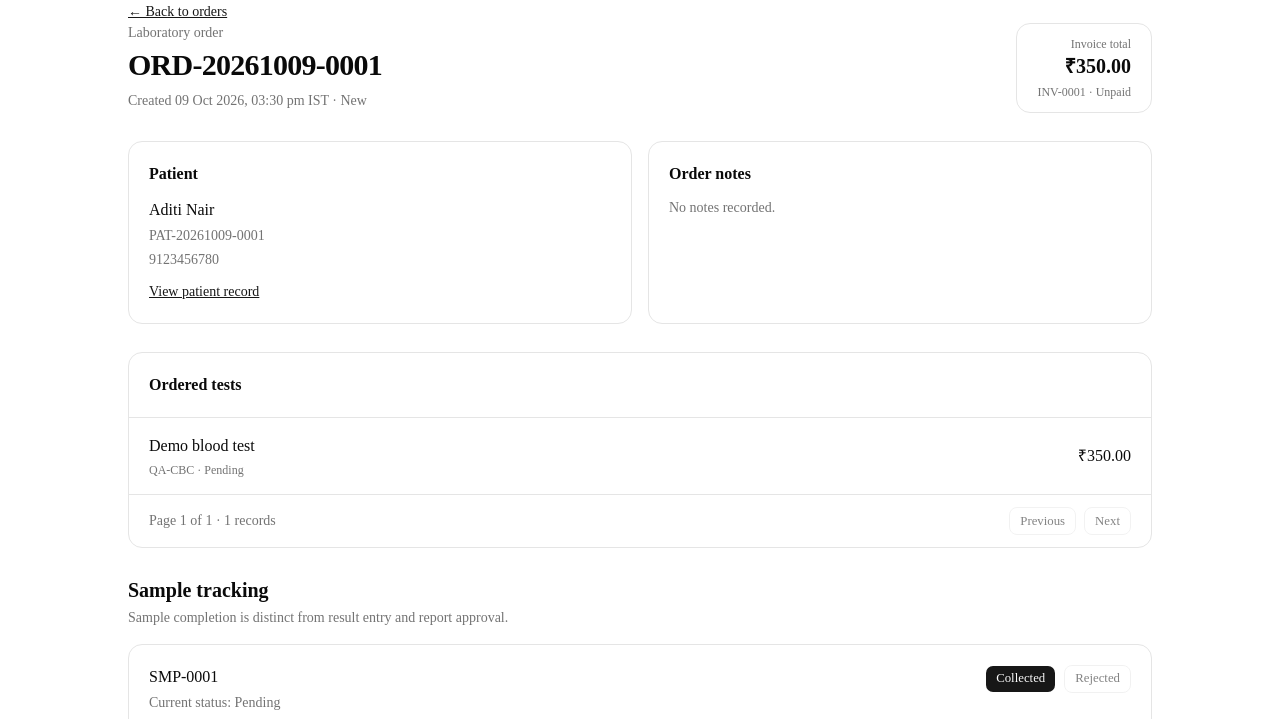
Test: catalogue and laboratory workflow screens › shows a permission-specific message when a sample update is forbidden
The width and height of the screenshot is (1280, 719).
Click the button "Collected". click: (1021, 679)
box: [985, 665, 1056, 693]
(page scrolled)
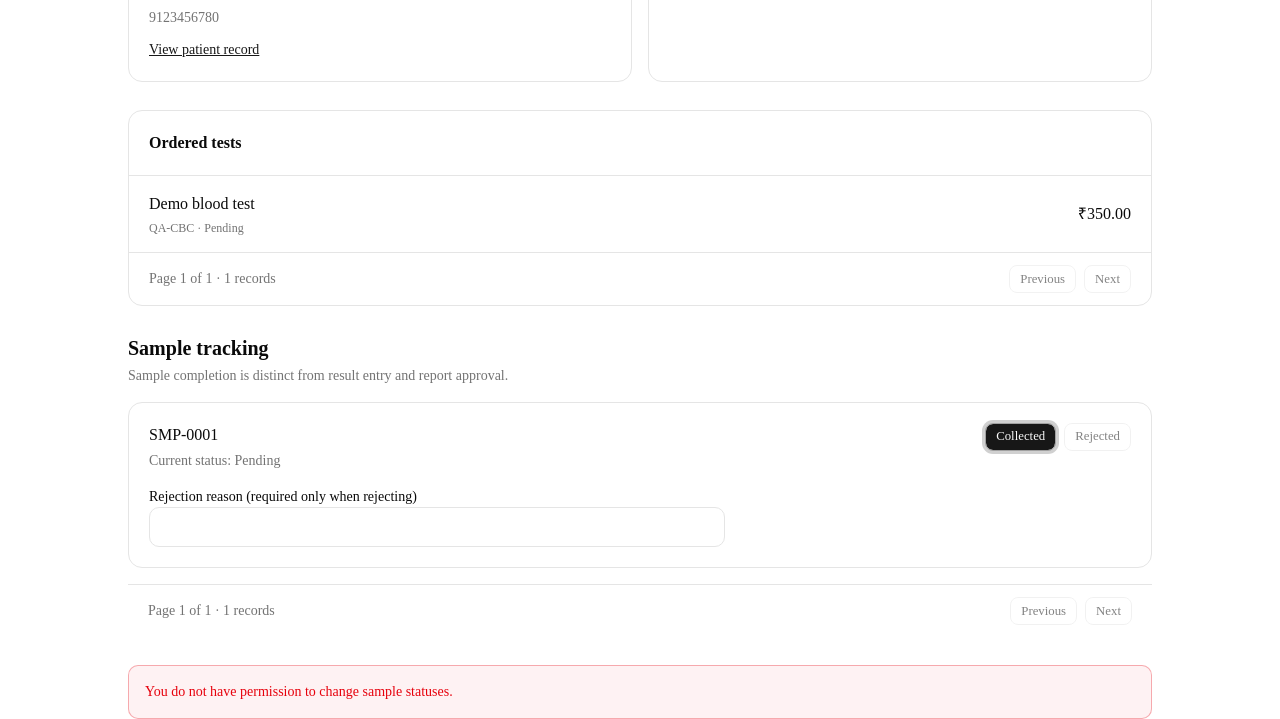
Now the message reads "You do not have permission to change sample statuses.", box [145, 684, 453, 699]
